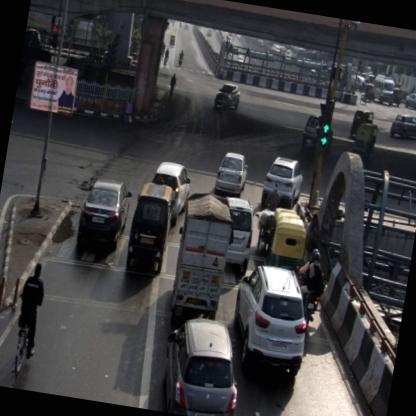bus: (369, 72, 396, 107)
car: (226, 262, 314, 378), (155, 312, 250, 415), (74, 176, 136, 258), (122, 176, 172, 276), (211, 194, 258, 274), (146, 158, 194, 228), (260, 154, 306, 214), (213, 147, 248, 196), (300, 115, 335, 148), (212, 82, 242, 112), (389, 114, 415, 142), (402, 91, 415, 112)
motorcycle: (9, 259, 48, 381), (288, 247, 328, 328), (161, 45, 171, 69), (178, 48, 184, 66)
truck: (168, 190, 235, 320)
